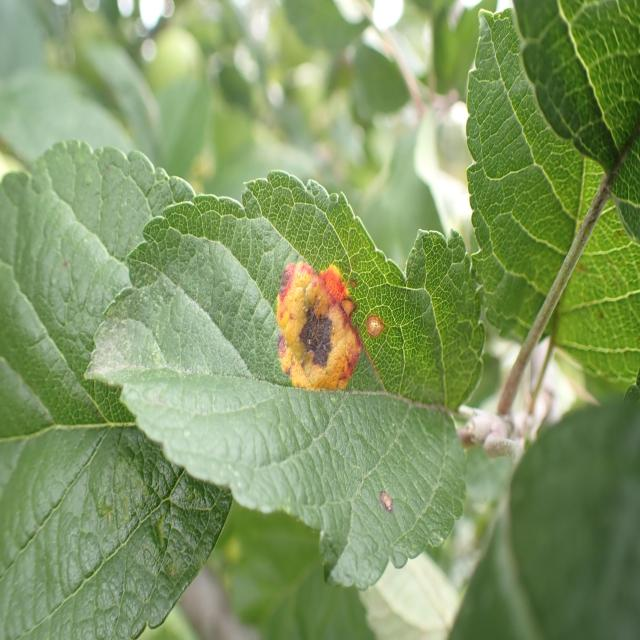rust: (82, 170, 486, 590)
